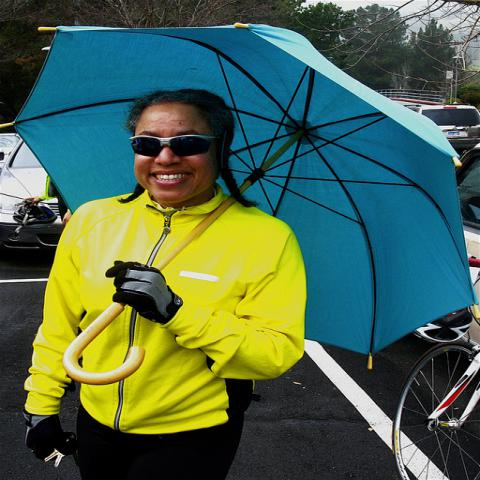car: (413, 146, 479, 350), (0, 132, 64, 259), (400, 104, 479, 150)
